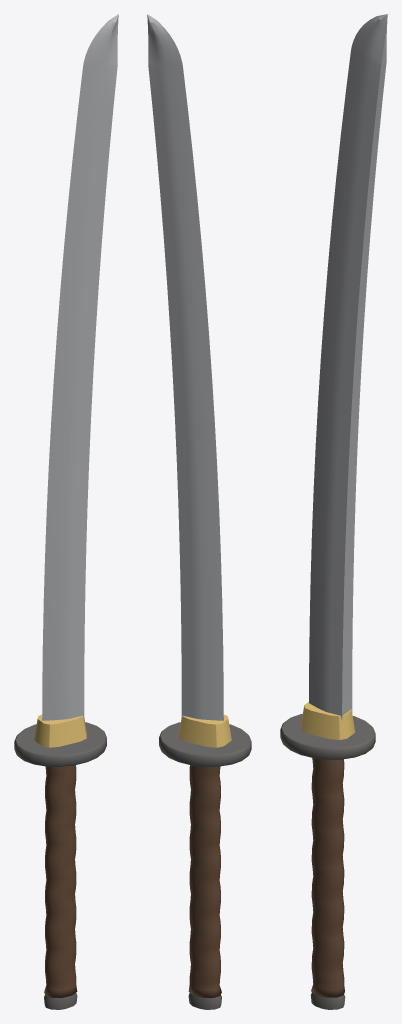
The model's file is katana.glb.
The picture shows the model from 3 angles, left to right: view 1: azimuth 30°, elevation 25°; view 2: azimuth 150°, elevation 25°; view 3: azimuth 330°, elevation 25°; orthographic projection. The views are drawn at different scales.
Parts seen in each view (by area): view 1: katana; view 2: katana; view 3: katana.
Boxes of the visible parts, x1=… form: katana: x1=14, y1=14, x2=118, y2=1009; katana: x1=147, y1=14, x2=251, y2=1009; katana: x1=280, y1=14, x2=387, y2=1009.
Bounding box in the file's own units: 0.2391 × 2.27 × 0.1738.
